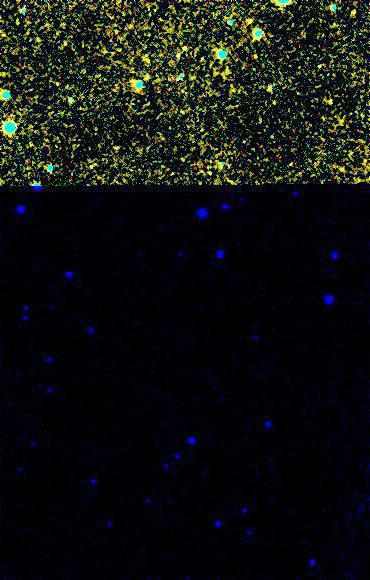star: (136, 44, 166, 74)
